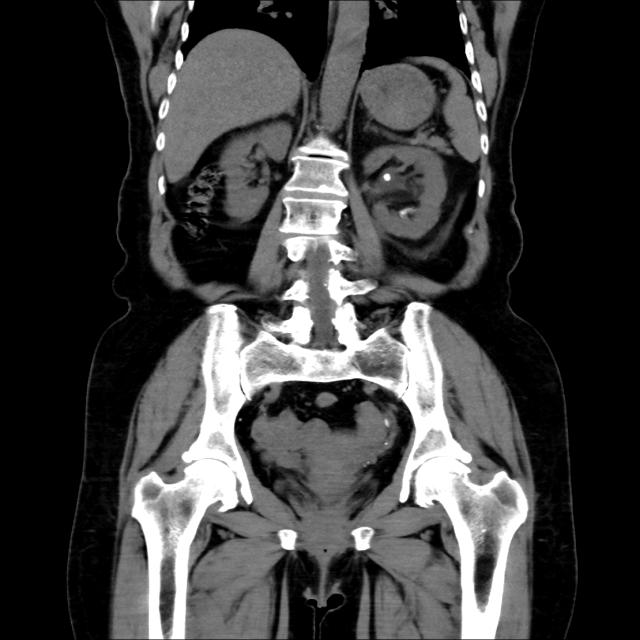kidneystone: (383, 174, 391, 181)
